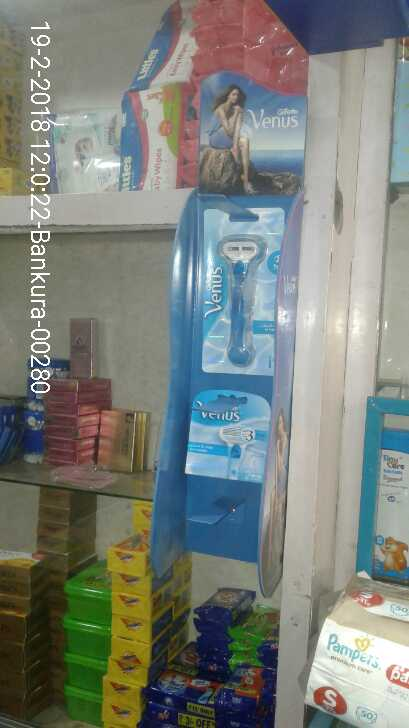venus: (199, 203, 285, 373), (185, 379, 272, 491)
